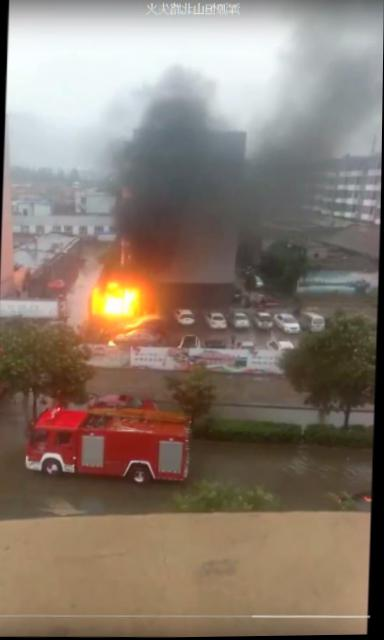fire: (93, 282, 143, 323)
